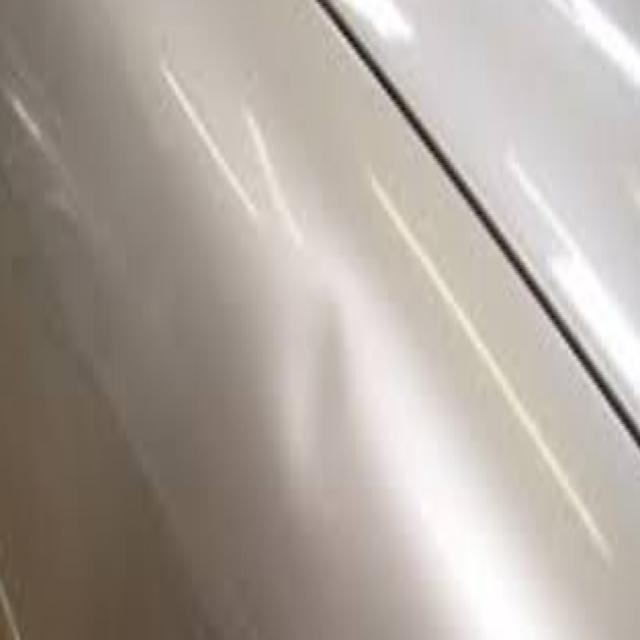dents: (278, 256, 363, 540)
